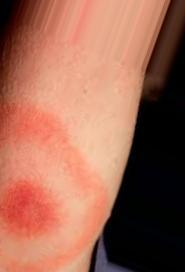Tick: (1, 158, 68, 255)
